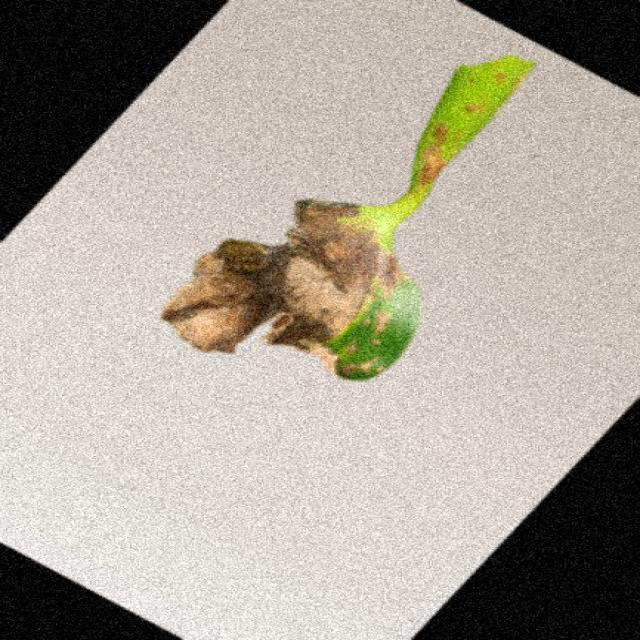daun berpenyakit karat: (162, 56, 533, 379)
